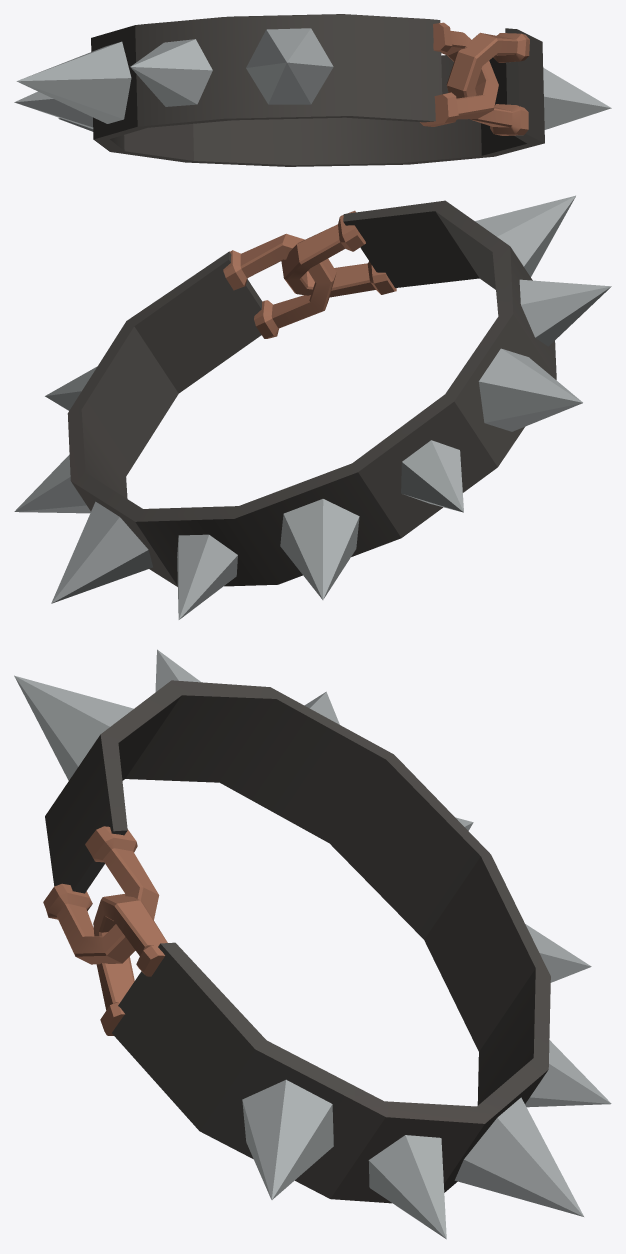
The model's file is spikedChoker.fbx.
The picture shows the model from 3 angles, top to bottom: view 1: azimuth 30°, elevation 25°; view 2: azimuth 150°, elevation 25°; view 3: azimuth 270°, elevation 25°; orthographic projection. The views are drawn at different scales.
Parts seen in each view (by area): view 1: spikedChoker; view 2: spikedChoker; view 3: spikedChoker.
Part boxes in pixels (bbox=[...]): spikedChoker: bbox=[14, 14, 611, 166]; spikedChoker: bbox=[14, 195, 611, 619]; spikedChoker: bbox=[14, 649, 611, 1239].
Size of the model in its own units: 1.86 by 0.9701 by 1.42.
Materials: 1 (1 with a texture image).
